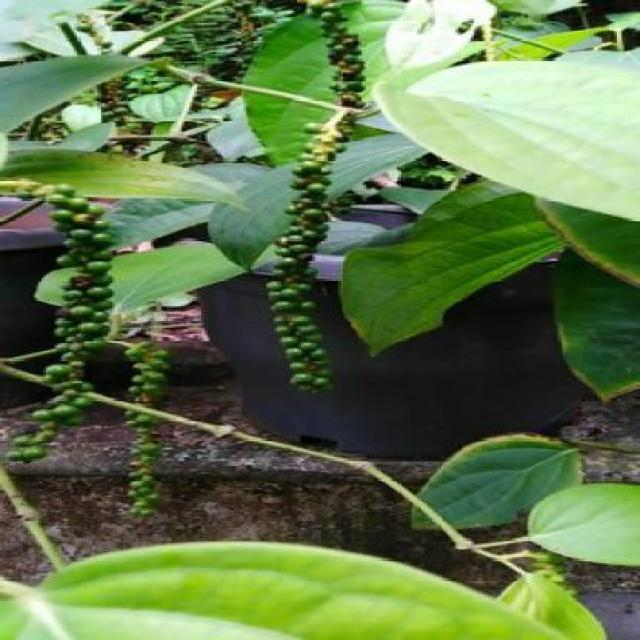UNRIPE: (10, 185, 110, 460), (264, 123, 342, 395), (120, 344, 165, 510), (310, 4, 364, 108), (100, 88, 129, 128)
